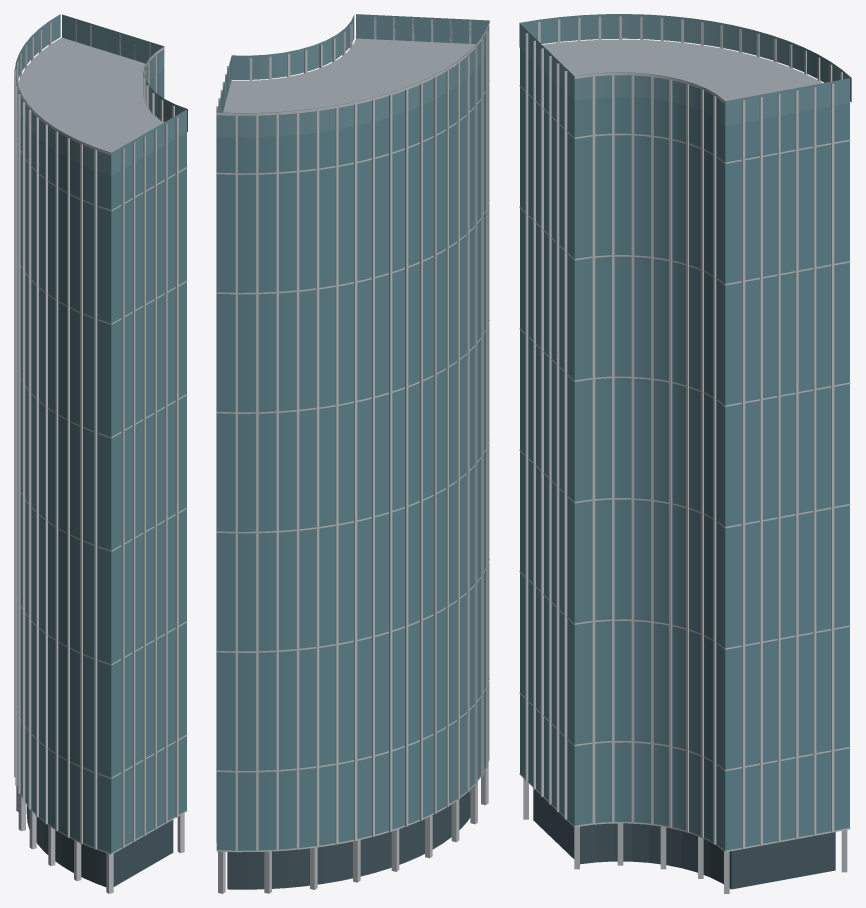
The model's file is frankfurt-skyper.glb.
3 renders of one model, left to right at view 1: azimuth 30°, elevation 25°; view 2: azimuth 150°, elevation 25°; view 3: azimuth 270°, elevation 25°, orthographic. The views are drawn at different scales.
Parts seen in each view (by area): view 1: Skyper; view 2: Skyper; view 3: Skyper.
Boxes of the visible parts, bbox=[...] form: Skyper: bbox=[14, 14, 187, 893]; Skyper: bbox=[216, 14, 489, 893]; Skyper: bbox=[519, 14, 851, 893].
Size of the model in its own units: 36.49 by 154 by 58.31.
